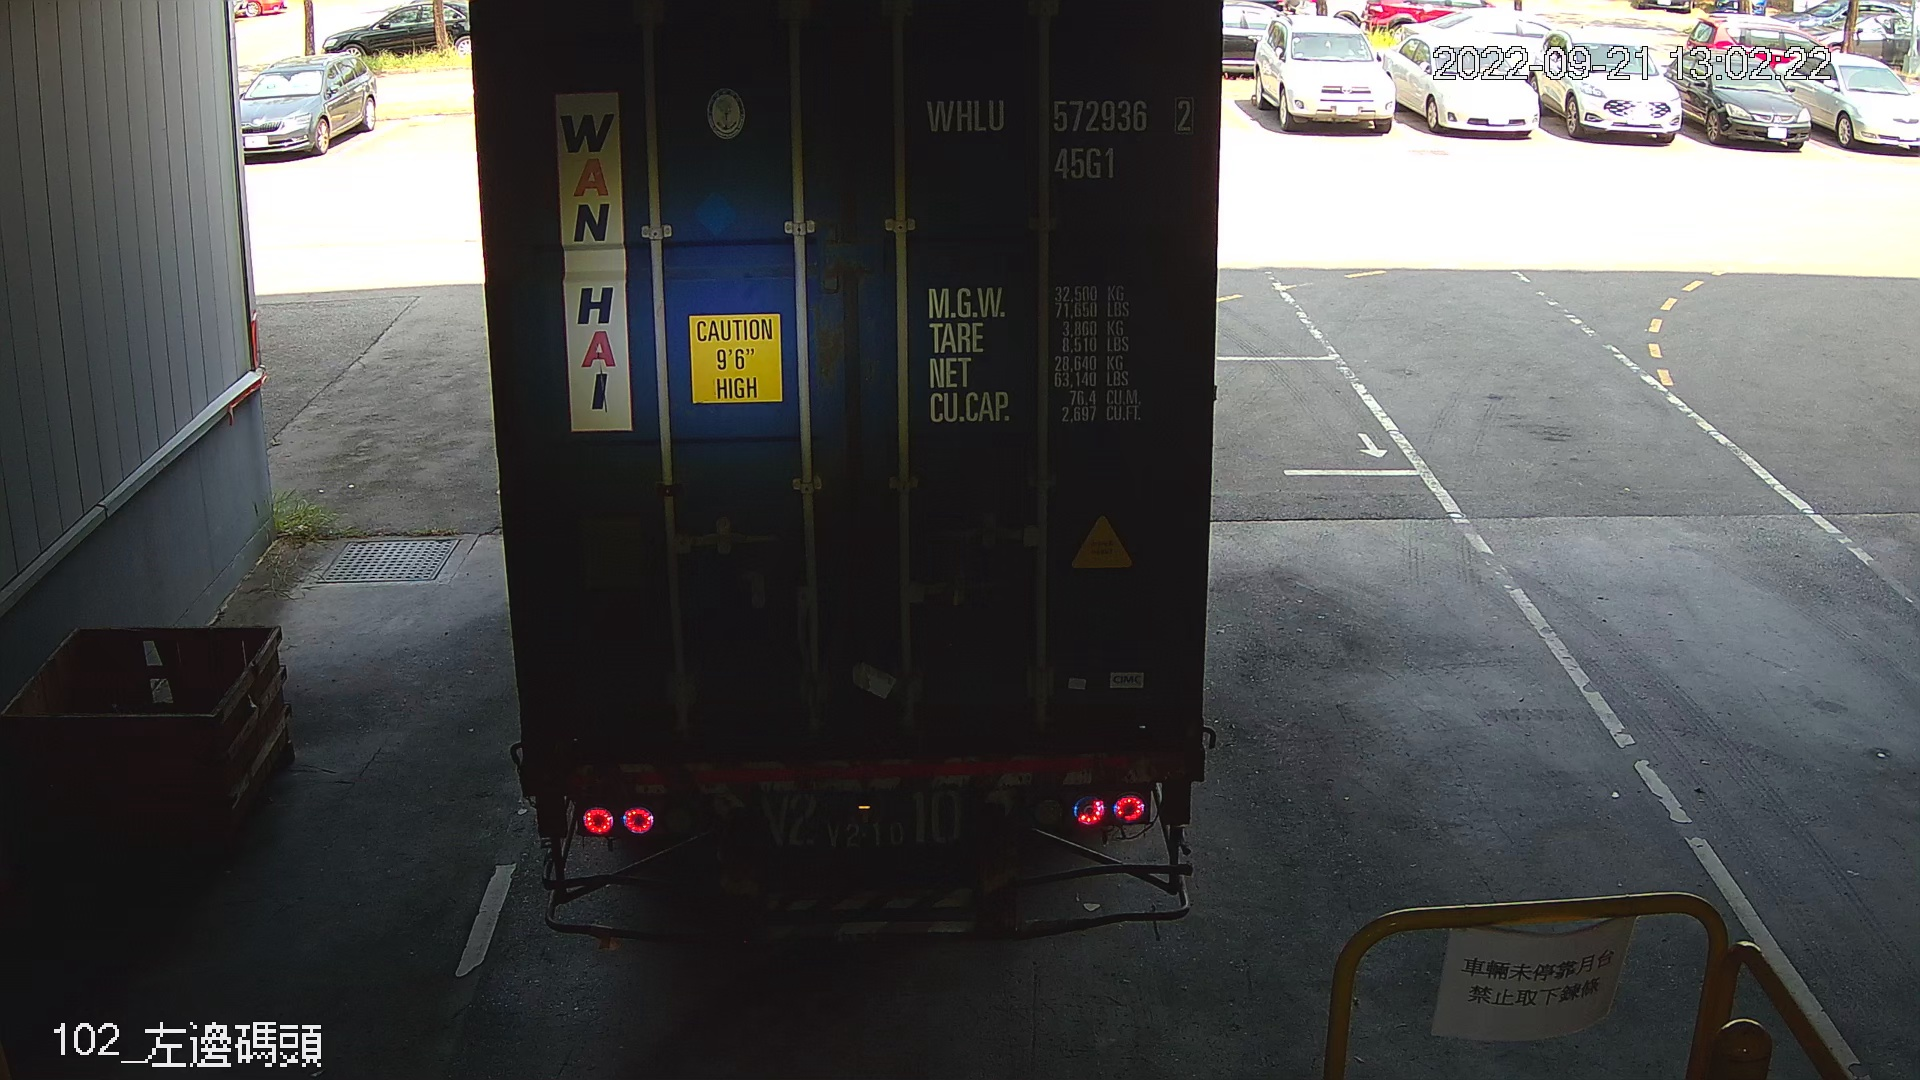container: (913, 84, 1203, 194)
